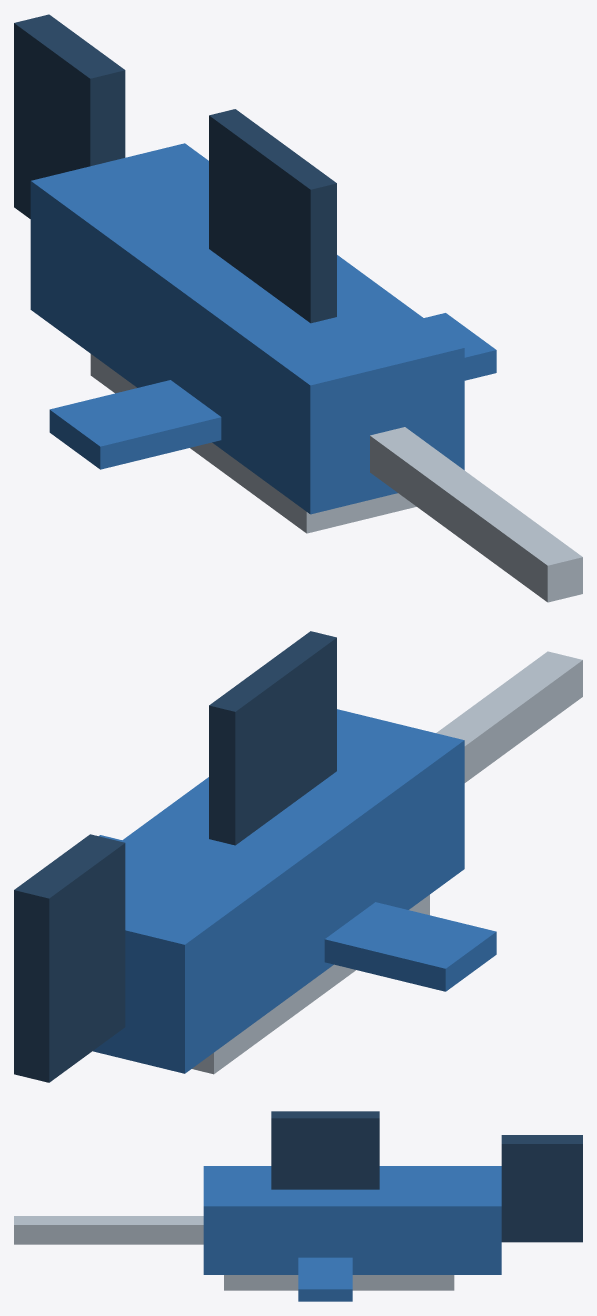
The model's file is swordfish.glb.
The picture shows the model from 3 angles, top to bottom: view 1: azimuth 30°, elevation 25°; view 2: azimuth 150°, elevation 25°; view 3: azimuth 270°, elevation 25°; orthographic projection. The views are drawn at different scales.
Visible parts, largest first — view 1: swordfish; view 2: swordfish; view 3: swordfish.
Boxes of the visible parts, <box> form: swordfish: <box>14,14,582,602</box>; swordfish: <box>14,631,582,1082</box>; swordfish: <box>14,1111,582,1301</box>.
Bounding box in the file's own units: 0.9 × 0.65 × 2.1.
